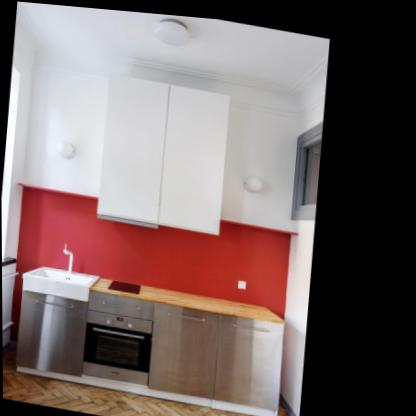Cabinet: (82, 287, 283, 412), (94, 71, 232, 237)
